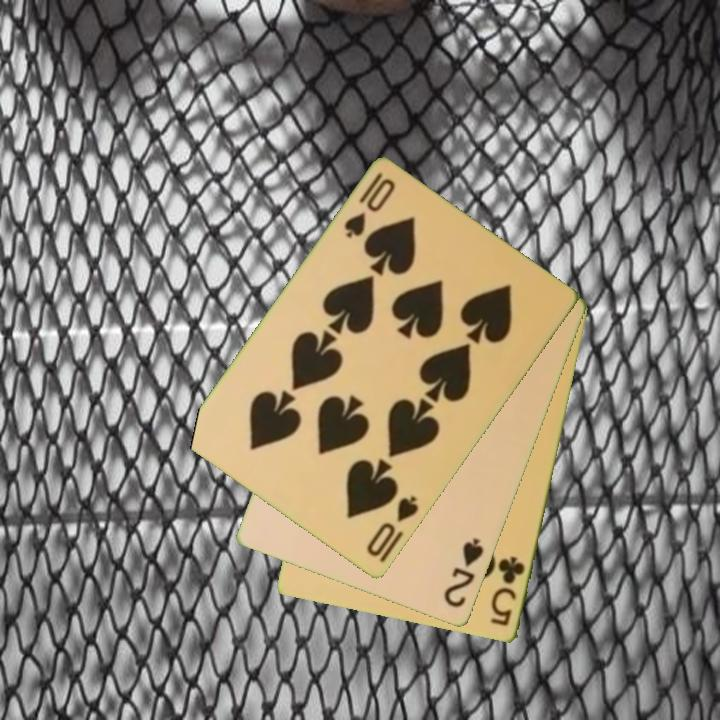10s: (340, 169, 398, 242), (363, 493, 422, 561)
2s: (440, 535, 487, 611)
5c: (487, 553, 528, 630)
